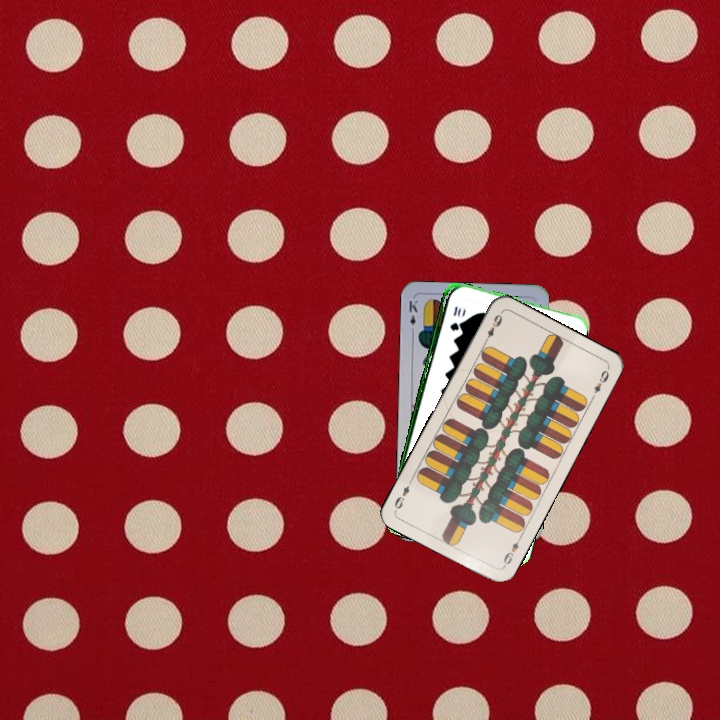E9: (499, 532, 524, 570), (480, 310, 505, 346)
EK: (405, 296, 420, 336)
G10: (446, 302, 464, 334)
